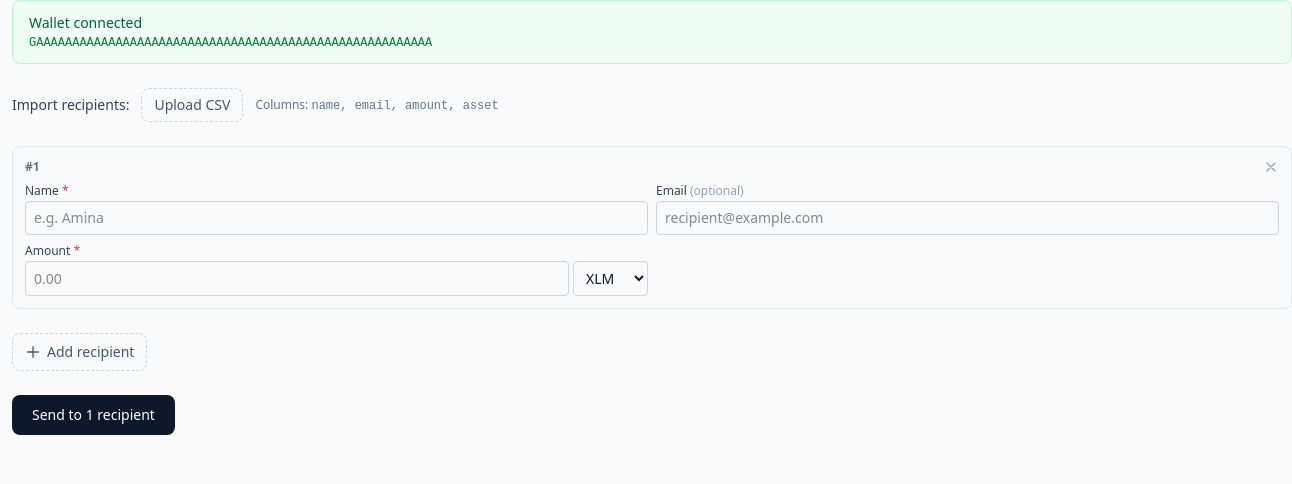
Test: BatchSendForm › shows batch progress and success state
# Fill in the one recipient row
Type "Alice" into the field labelled "Name *" at (336, 218), box [25,201,648,235]
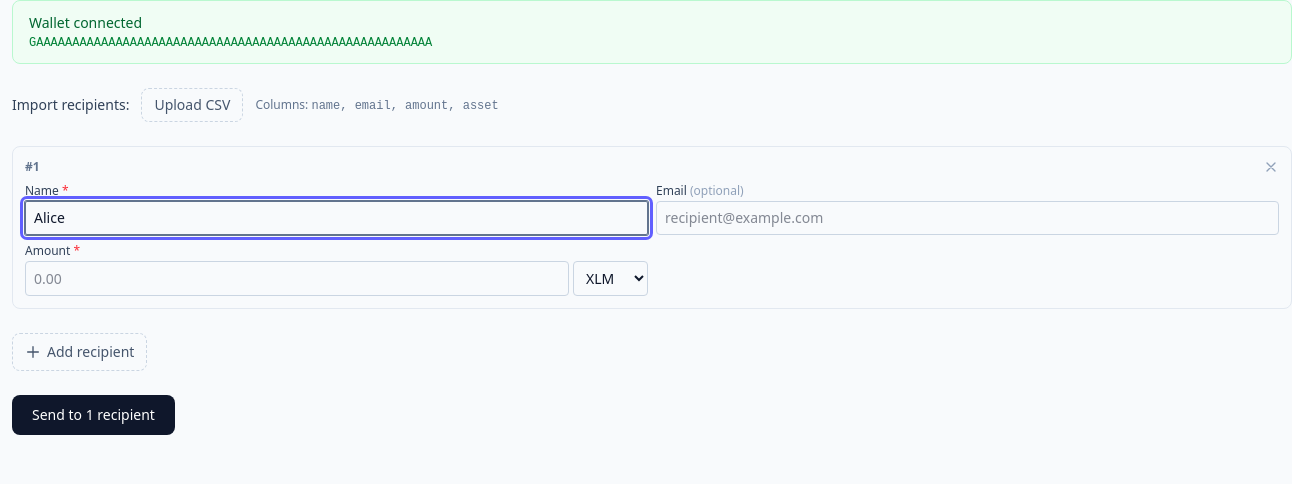
Type "10" into the number field labelled "Amount *" at (297, 278), box [25,261,569,296]
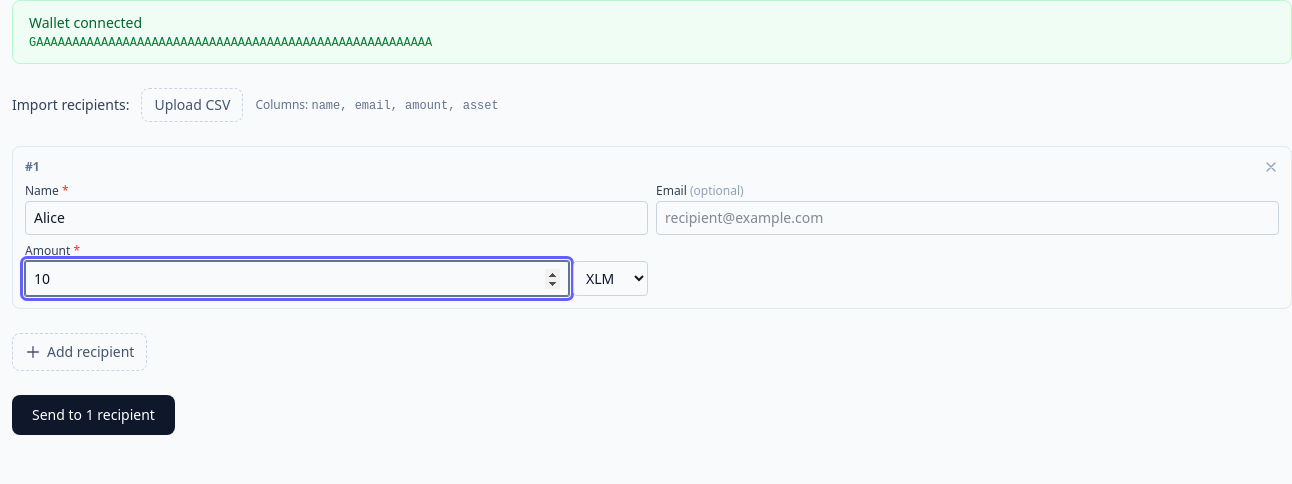
Click the button "Send to 1 recipient" at (93, 415), box [12,395,175,435]
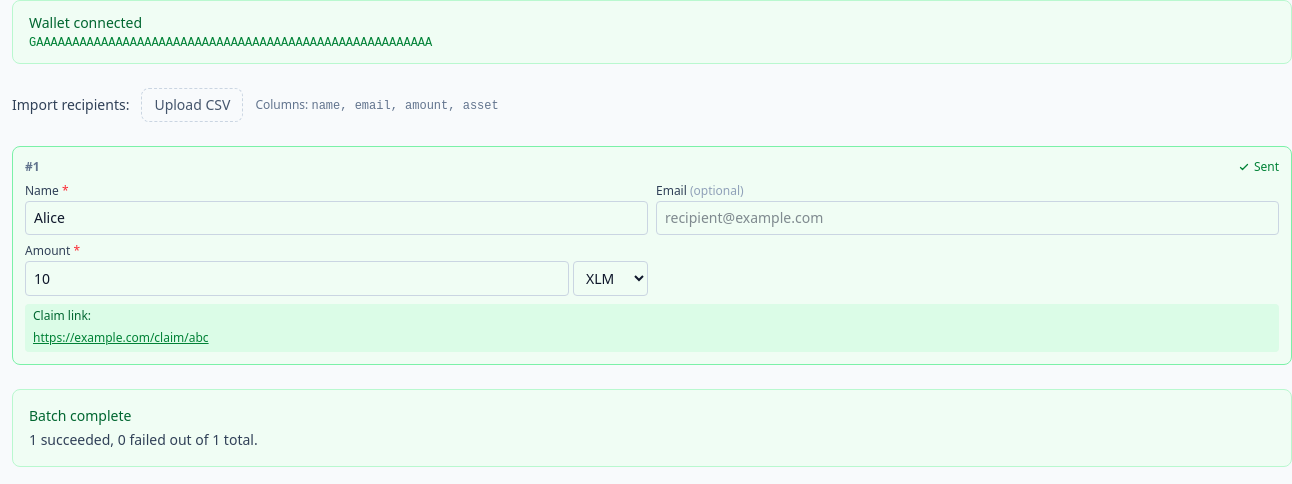
Expected: the text "Sent" is shown, [1238,159,1279,175]
Expected: the message shows "1 succeeded", [12,389,1291,467]
